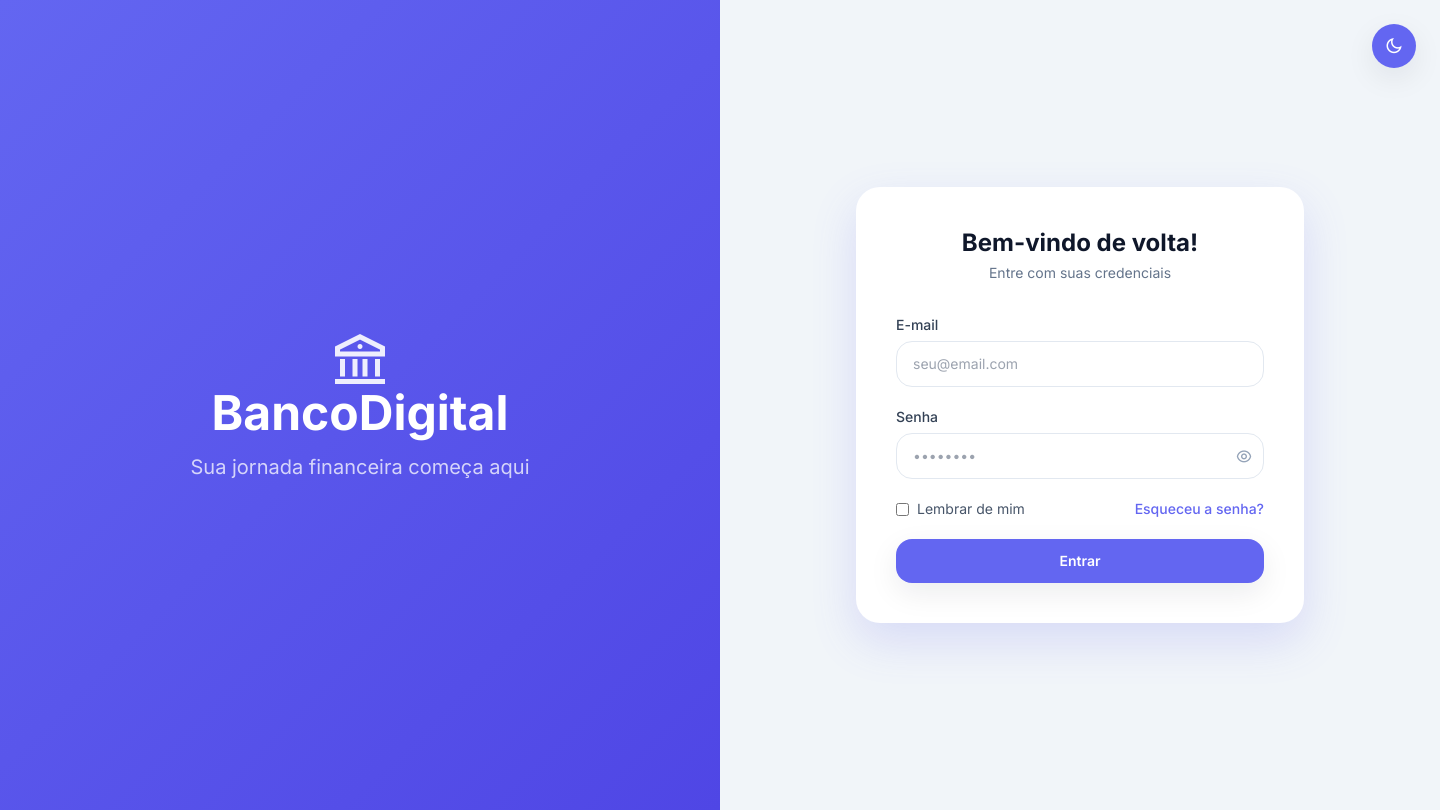
it: Login › submissão com erro › deve exibir mensagem de erro com credenciais inválidas
Type "errado@email.com" into the field with placeholder "seu@email.com".
click(1080, 364); type("errado@email.com")  # box 896,341 -> 1264,387
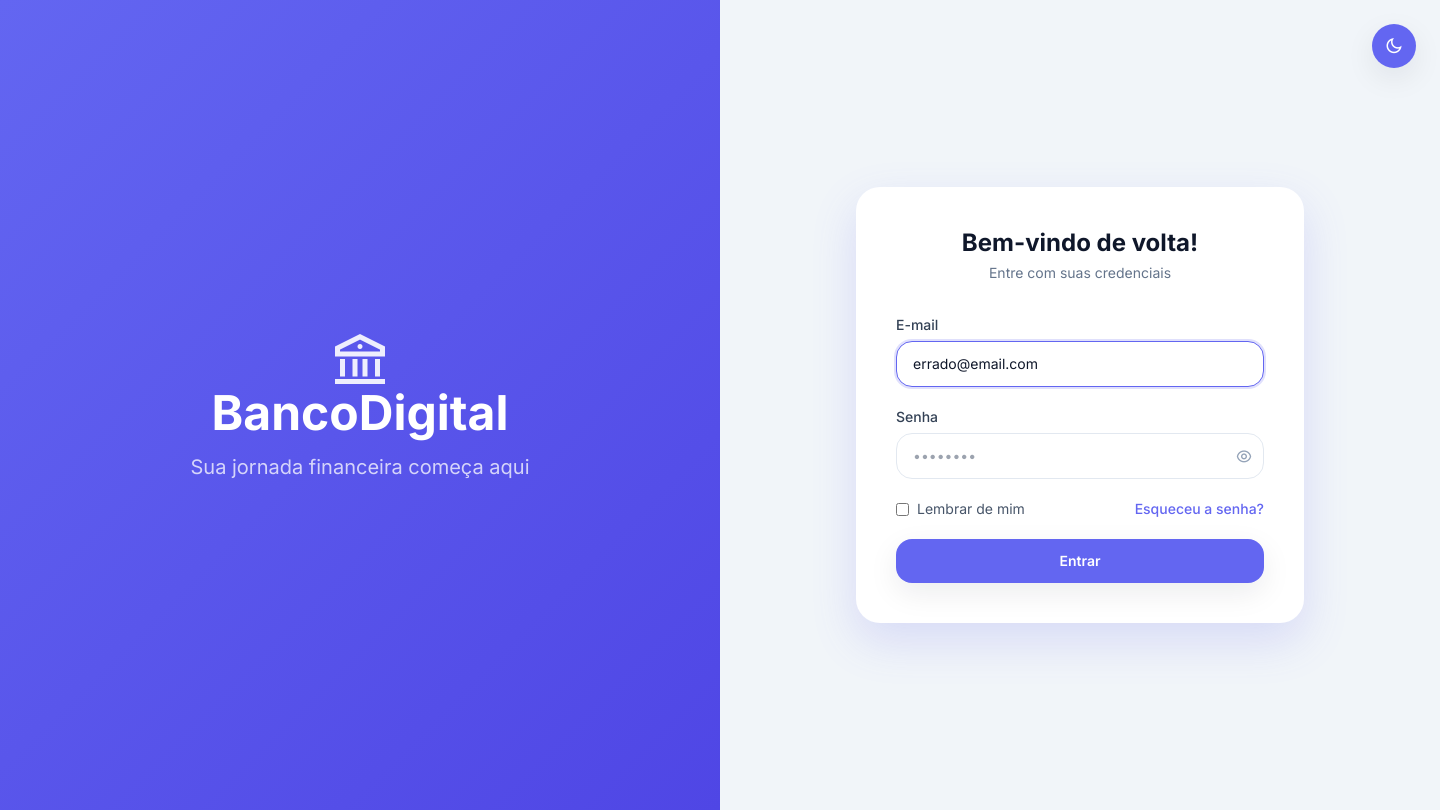
Type "senhaerrada" into the password field with placeholder "••••••••".
click(1080, 456); type("senhaerrada")  # box 896,433 -> 1264,479
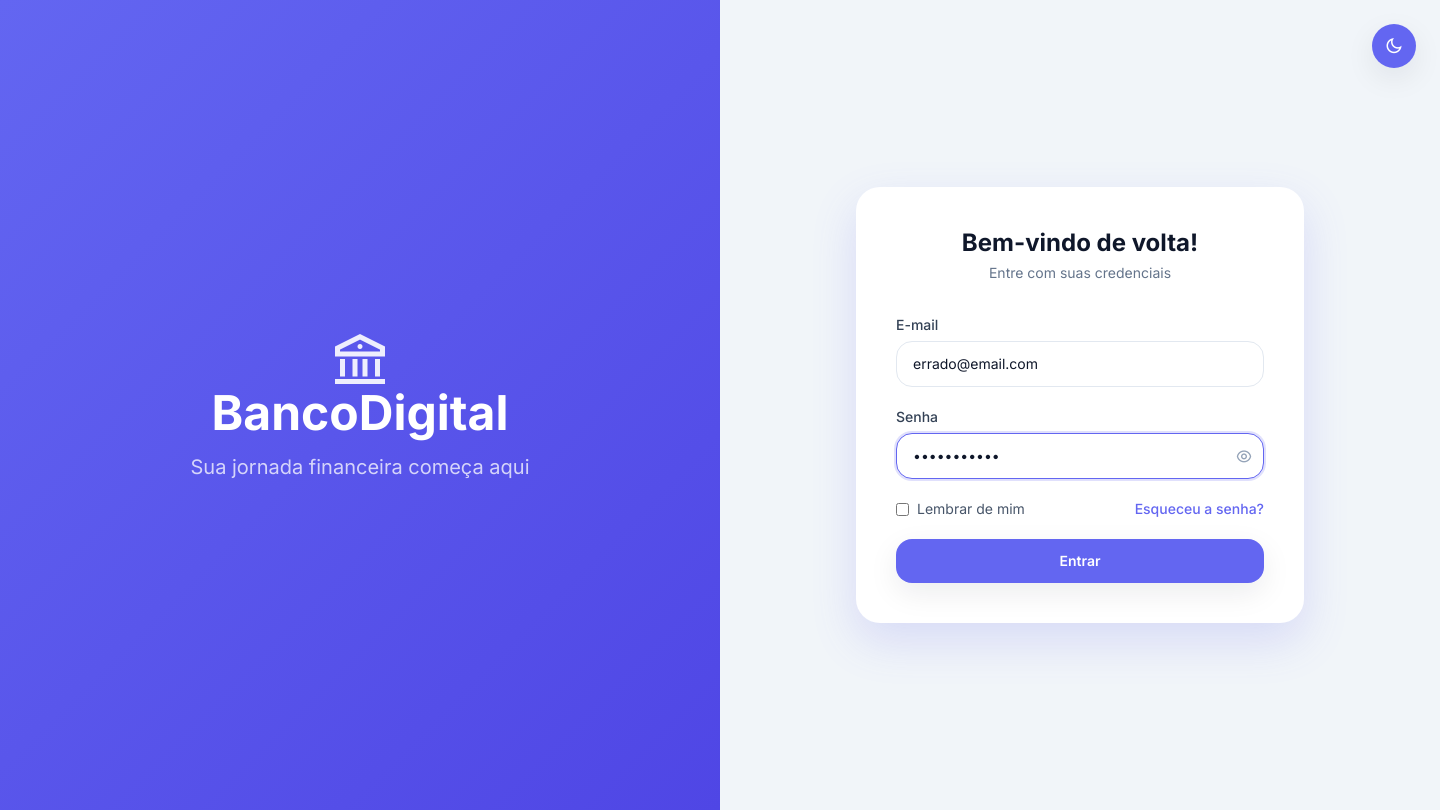
Submit the form from the button "Entrar", box 896,539 -> 1264,583
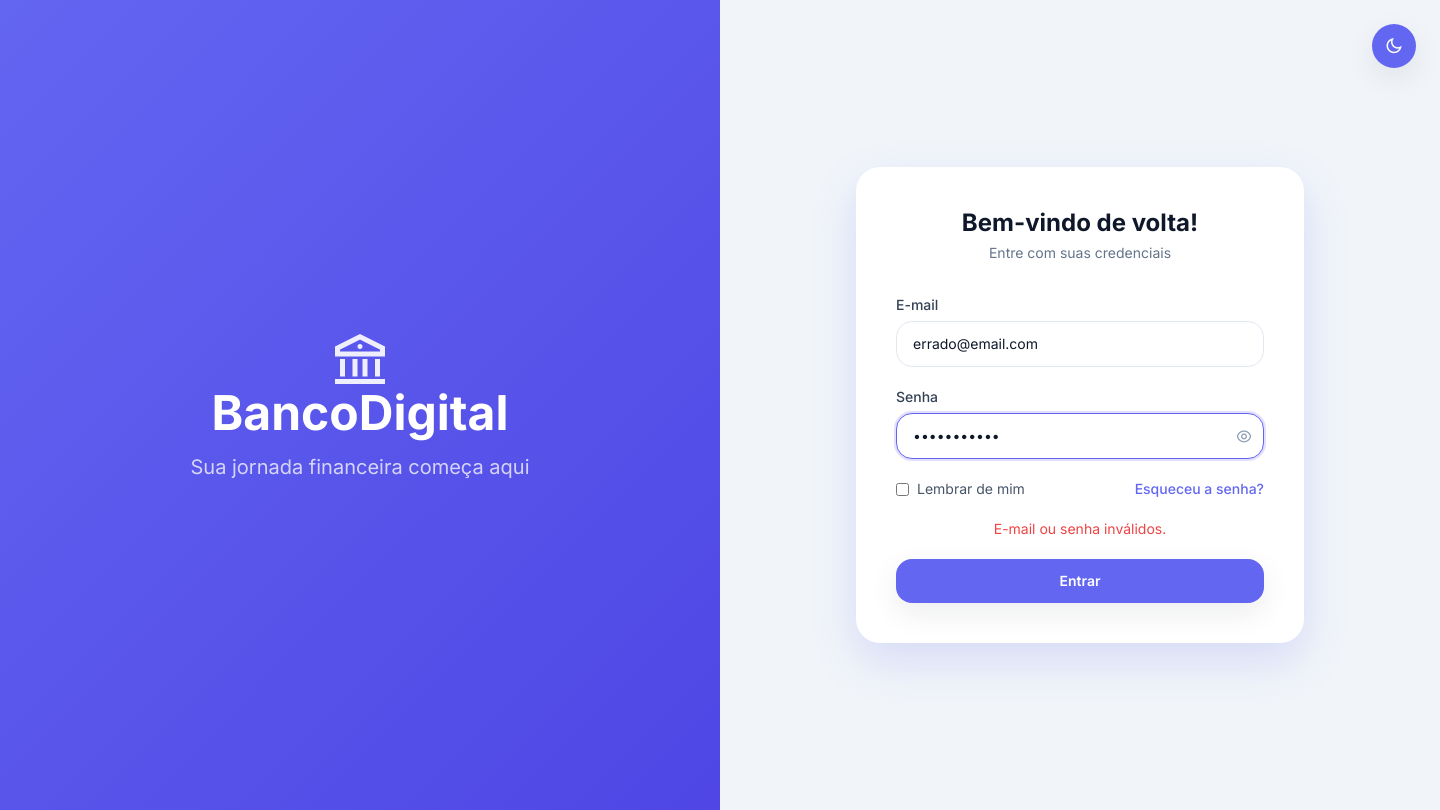
Expected: the text "E-mail ou senha inválidos." is shown, 994,520 -> 1166,537
